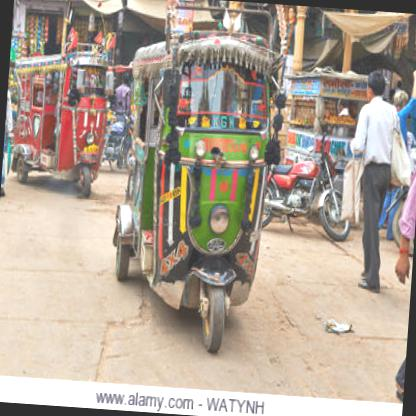motorcycle: (261, 136, 356, 244)
